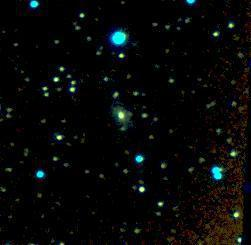star: (118, 98, 148, 128)
